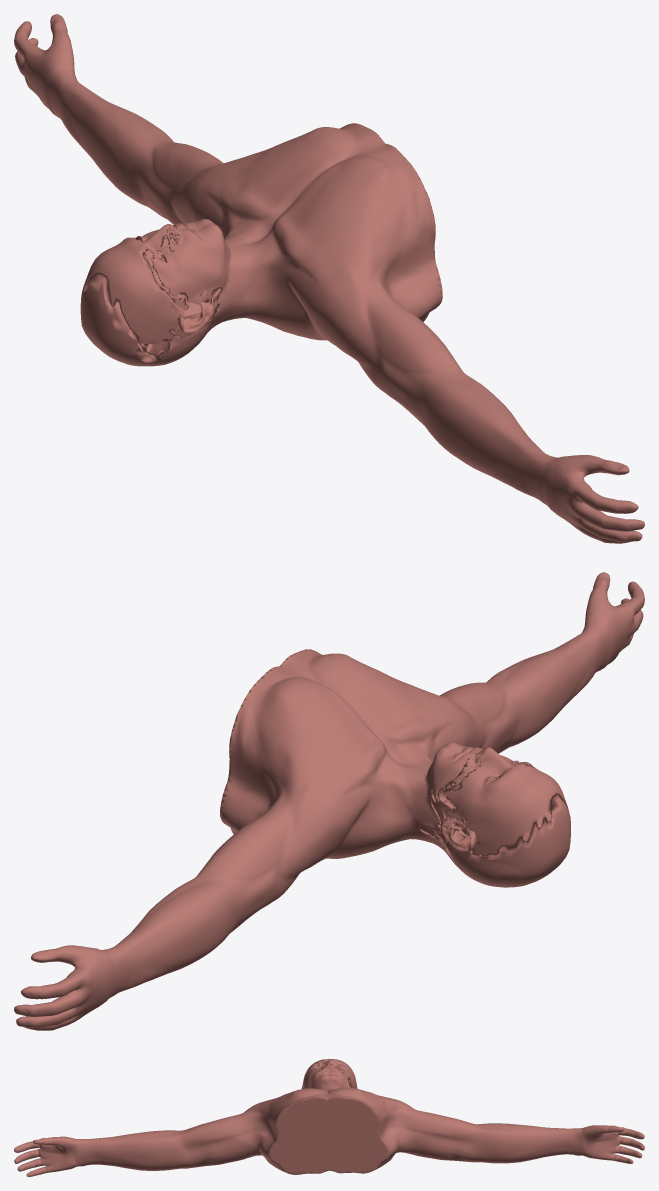
Rendered from UpperBody.obj.
3 views of the same model, one above another, from view 1: azimuth 30°, elevation 25°; view 2: azimuth 150°, elevation 25°; view 3: azimuth 270°, elevation 25° (orthographic). The views are drawn at different scales.
Parts seen in each view (by area): view 1: UpperBody; view 2: UpperBody; view 3: UpperBody.
Boxes of the visible parts, left/top/right/bottom form: UpperBody: left=14, top=14, right=644, bottom=543; UpperBody: left=14, top=572, right=644, bottom=1030; UpperBody: left=14, top=1059, right=644, bottom=1176.
Bounding box in the file's own units: 21.15 × 12.5 × 77.22.
